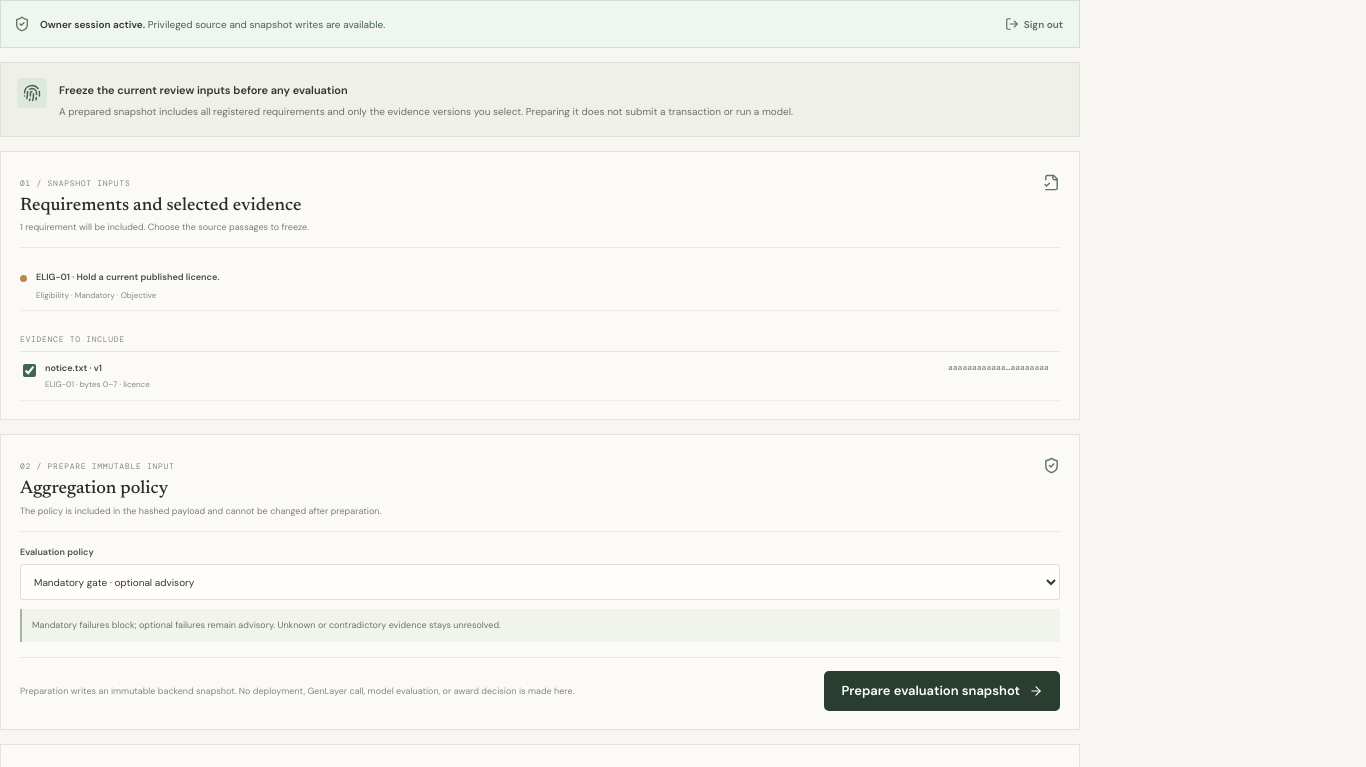
tender source workspaces › prepares an immutable snapshot from explicitly selected evidence without submitting it
Click the button "Prepare evaluation snapshot".
click(942, 691)  # box [824,671,1060,711]
(page scrolled)
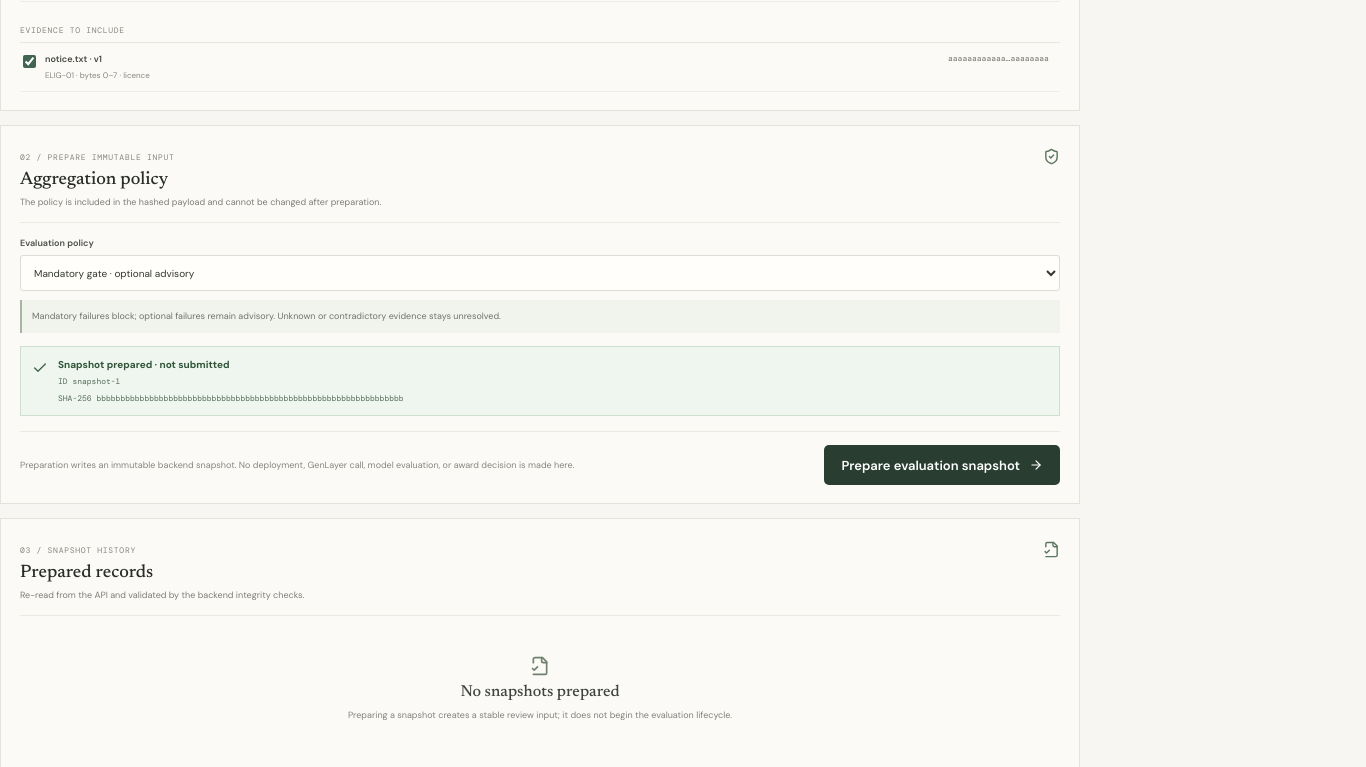
Expected: the text "No deployment, GenLayer call, model evaluation, or award decision" is shown, [20,459,574,471]
Expected: the text "Snapshot prepared · not submitted" is shown, [58,358,230,371]
